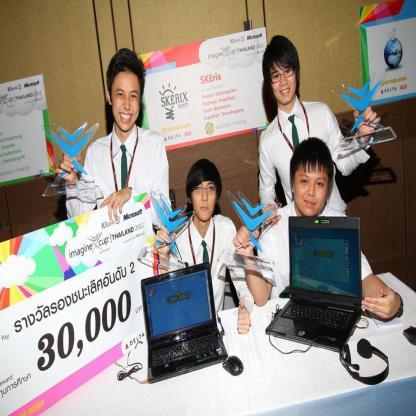board: (276, 212, 369, 367), (141, 263, 228, 384)
